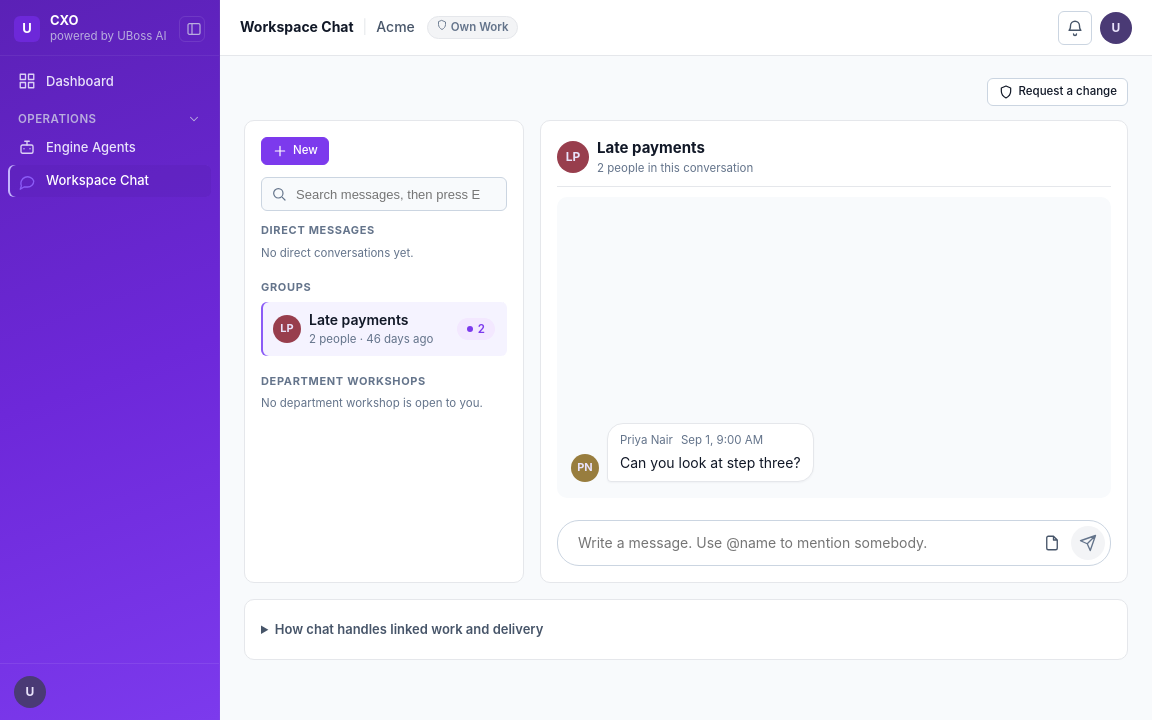
Test: Workspace Chat › does not send on Enter while the mention picker is open
The width and height of the screenshot is (1152, 720).
Check: the list with test id "chat-messages" is shown, box [557, 197, 1111, 498]
Step 1. Type "ping @am" into the text box labelled "message" → (804, 543), box [574, 526, 1033, 560]
Then press Enter
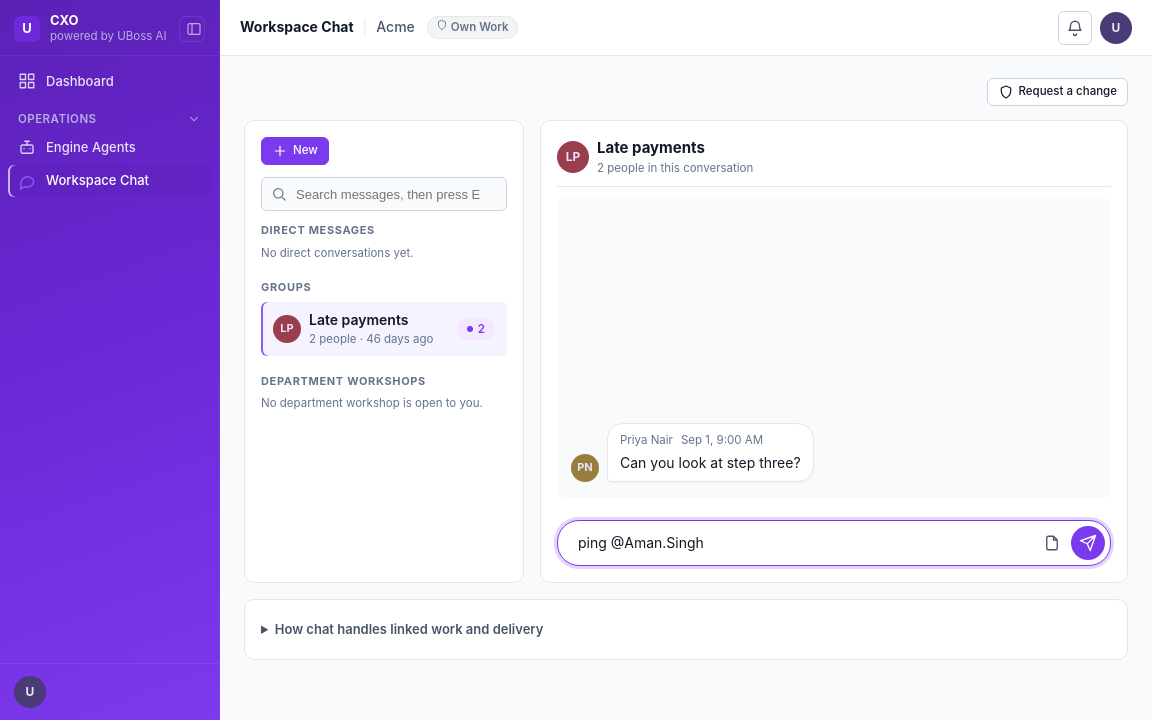
Check: the text box named "message" holds "ping @Aman.Singh ", box [574, 526, 1033, 560]
